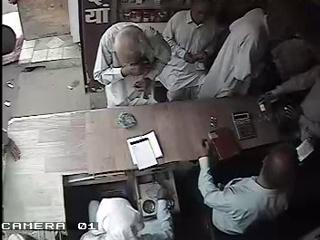Normal: (196, 135, 297, 239), (196, 1, 272, 100), (156, 0, 224, 102), (92, 21, 171, 108)
